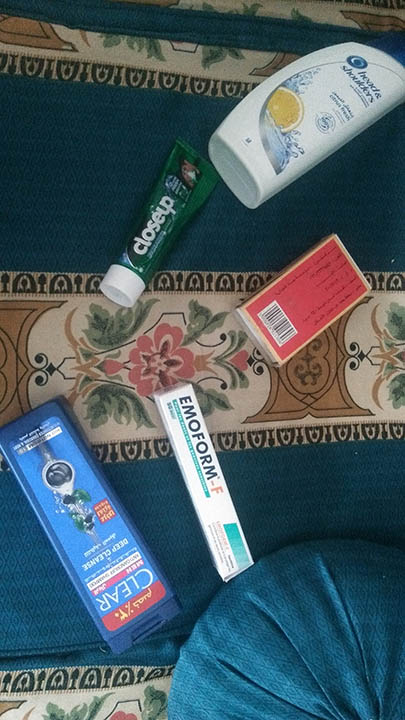Shampoo-Clear 4.7$: (1, 418, 183, 643)
Toothpaste-Closeup 3.04$: (83, 148, 228, 308)
Toothpaste-F 1.5$: (144, 381, 277, 578)
match-sticks .90$: (221, 226, 389, 362)
shampoo-Lemon 3.5$: (232, 16, 405, 206)
